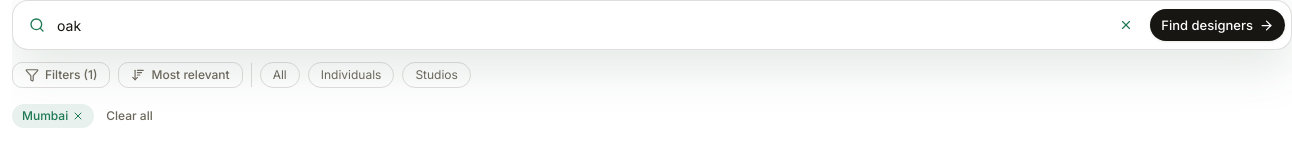
designer discovery › clears an applied search without dropping active filters
This screenshot has width=1292, height=160.
Step 1. Click the button named "Clear search" → (1126, 25), box [1114,13,1138,37]
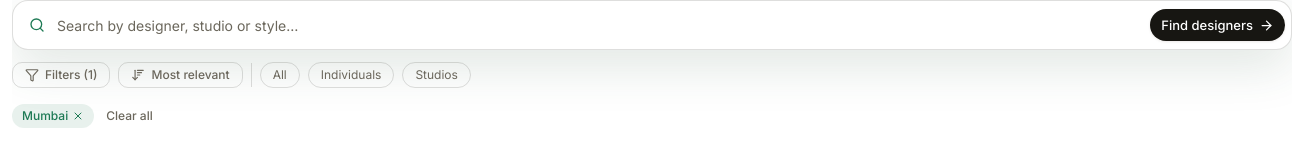
expect the search field is empty: met, box [57,7,1138,43]
